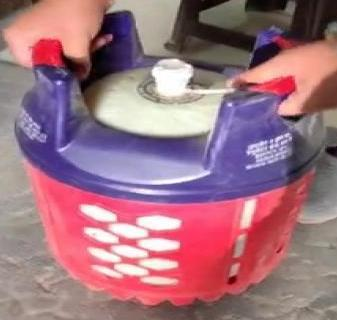cylinder: (1, 1, 337, 320)
